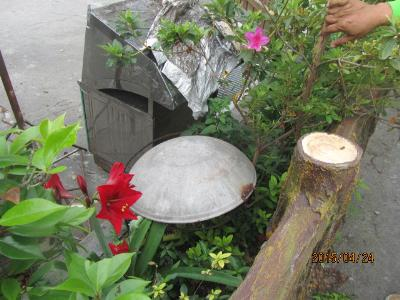bowl: (118, 134, 258, 225)
